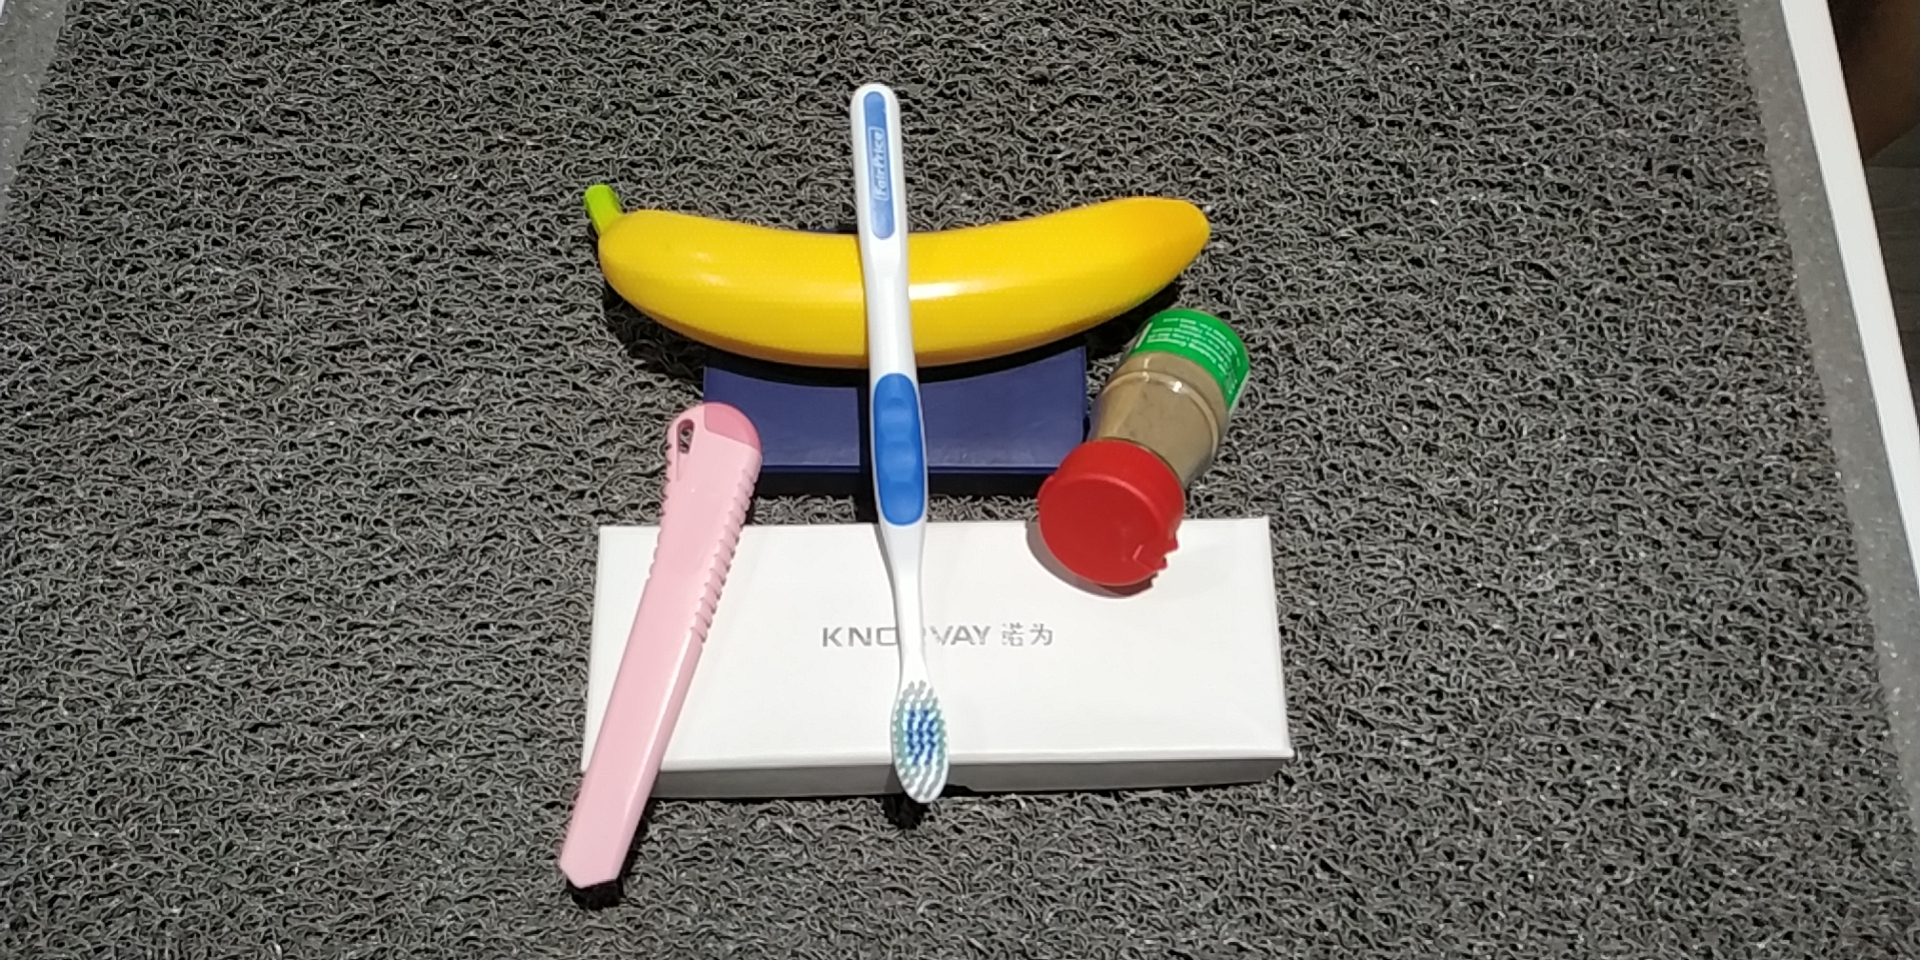banana: (584, 180, 1209, 364)
bottle: (1024, 309, 1251, 599)
box: (576, 520, 1286, 791)
knife: (558, 399, 767, 885)
notebook: (694, 336, 1100, 491)
toothbrush: (845, 77, 958, 814)
